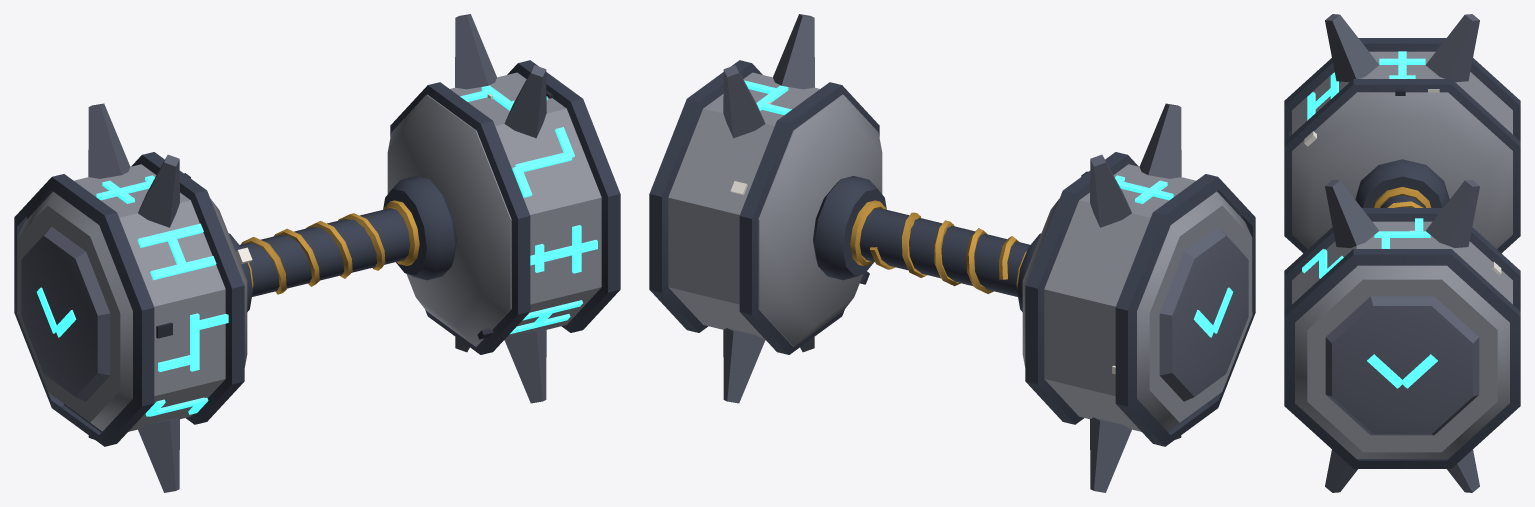
File: db_05_granite.glb
3 views of the same model, side by side, from view 1: azimuth 30°, elevation 25°; view 2: azimuth 150°, elevation 25°; view 3: azimuth 270°, elevation 25° (orthographic). The views are drawn at different scales.
Parts seen in each view (by area): view 1: db_05_granite; view 2: db_05_granite; view 3: db_05_granite.
Part boxes in pixels (<box>): db_05_granite: <box>14,14,620,492</box>; db_05_granite: <box>649,14,1255,492</box>; db_05_granite: <box>1284,14,1520,492</box>.
Bounding box in the file's own units: 3.37 × 2.07 × 1.42.
